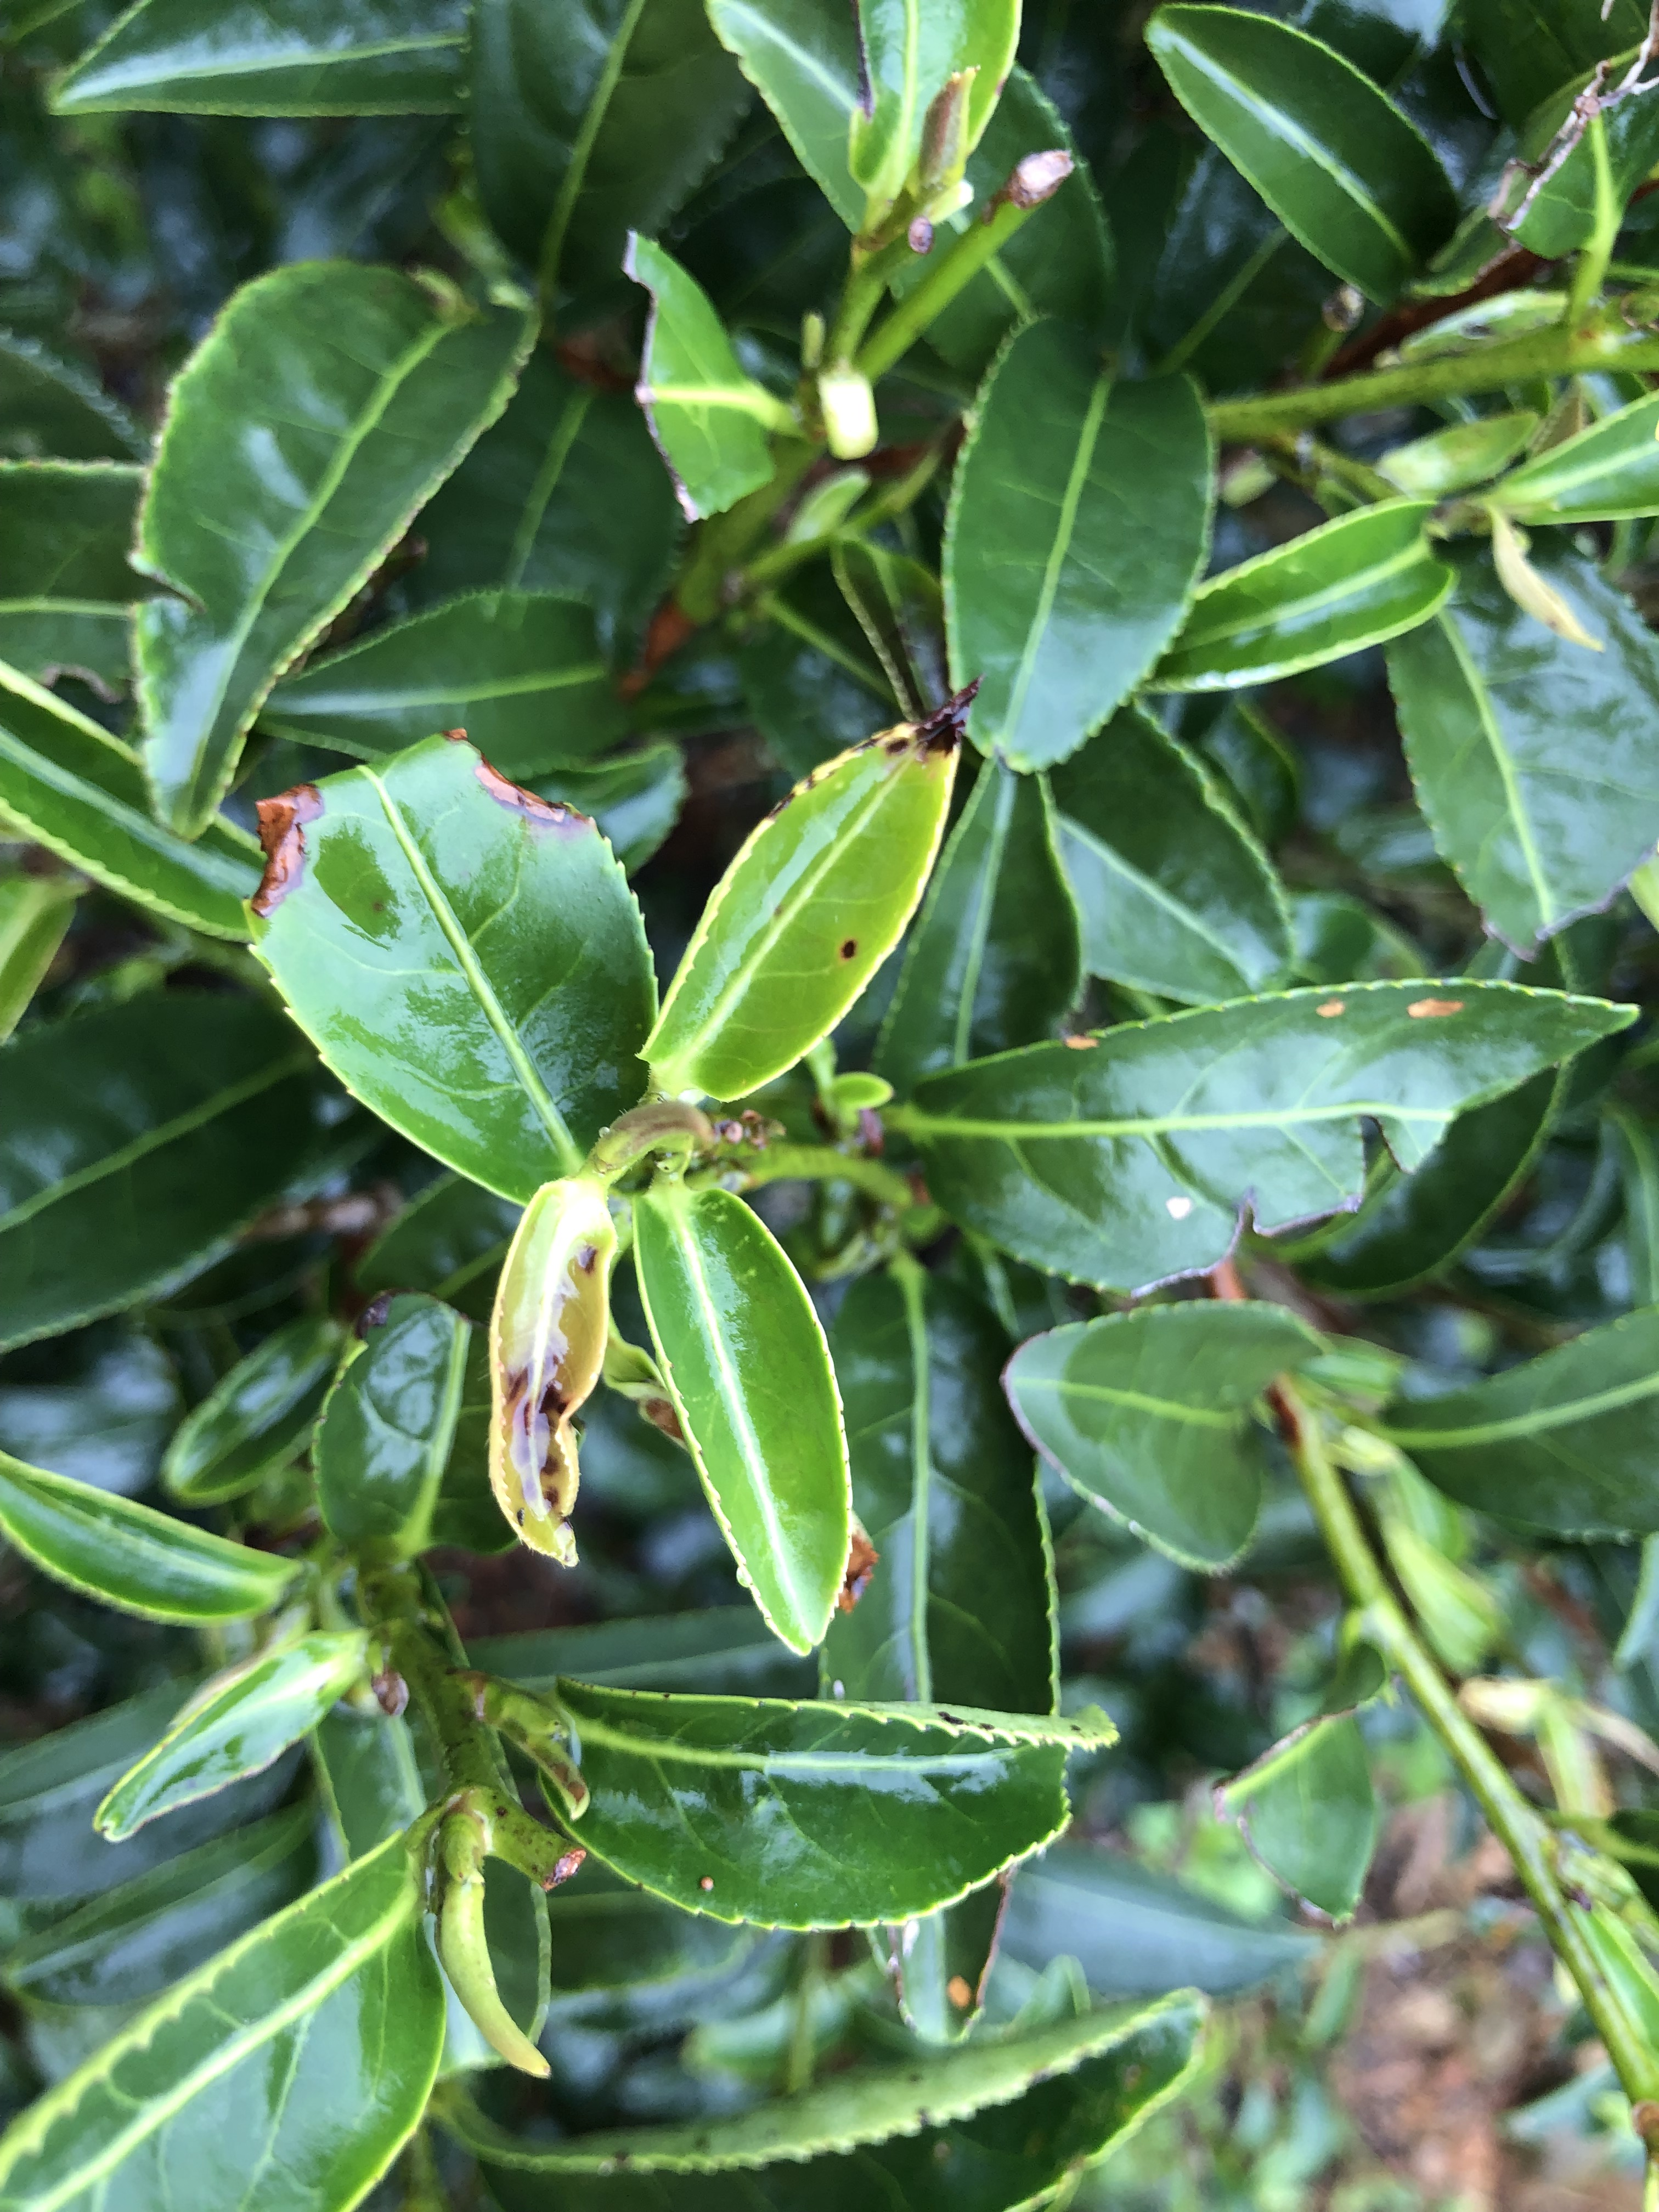mosquito_early: (253, 718, 660, 1204), (476, 1170, 619, 1566)
other: (270, 756, 620, 1200), (978, 145, 1075, 247)
